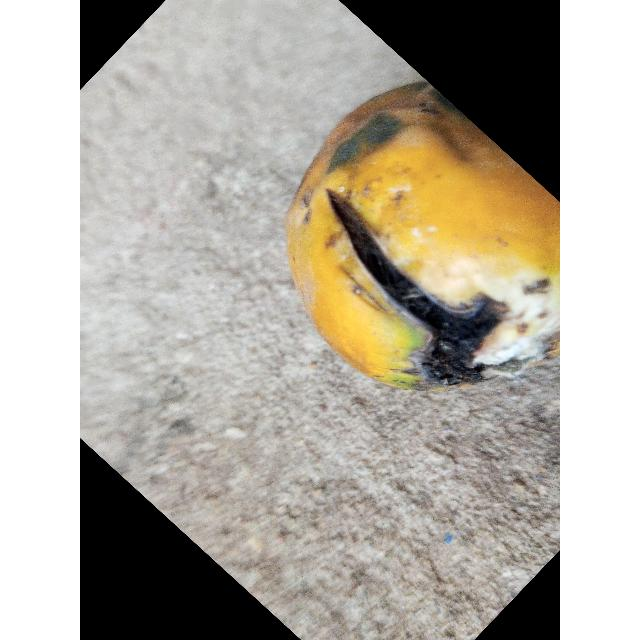damaged: (291, 85, 560, 390)
